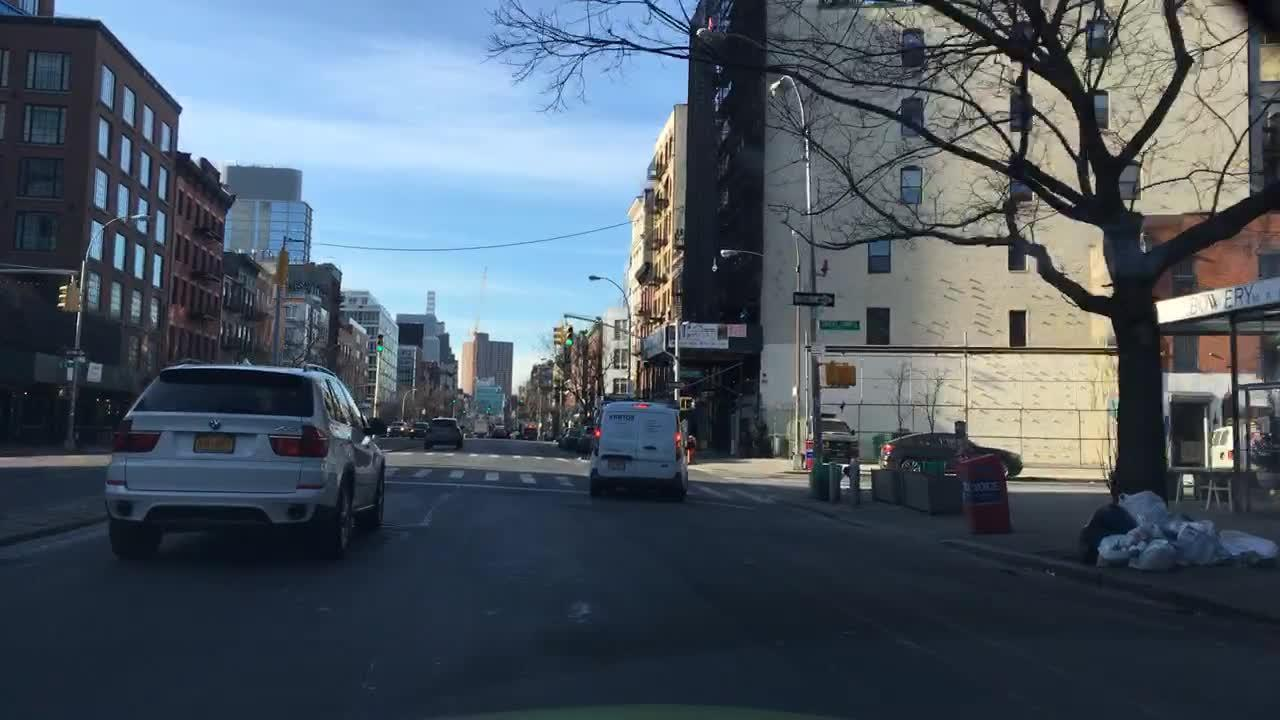bmw: (205, 414, 225, 437)
